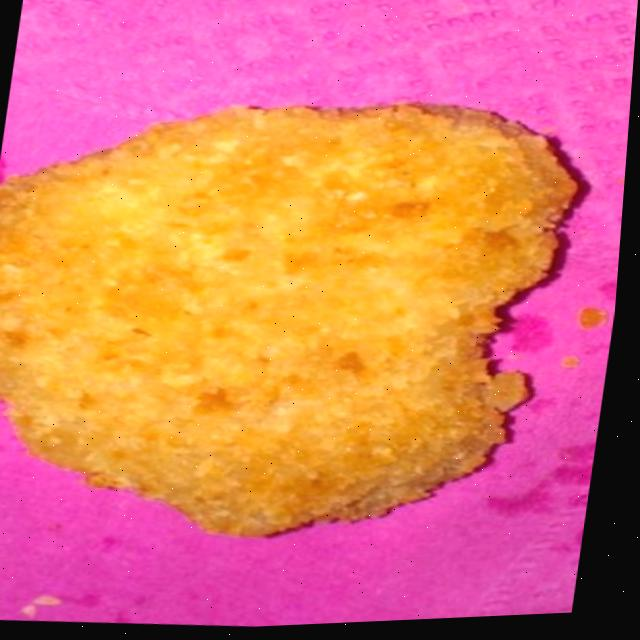鸡肉料理 含炸鸡: (0, 0, 630, 634)
